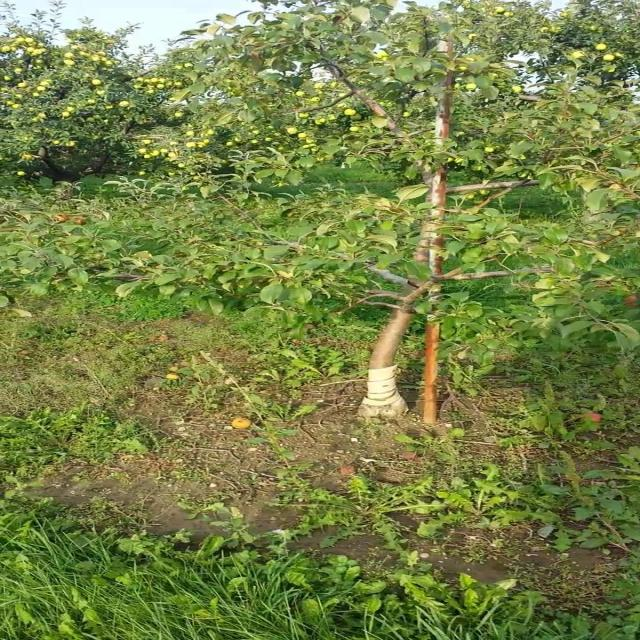apple: (625, 296, 639, 308), (56, 216, 71, 224), (77, 220, 85, 225)
